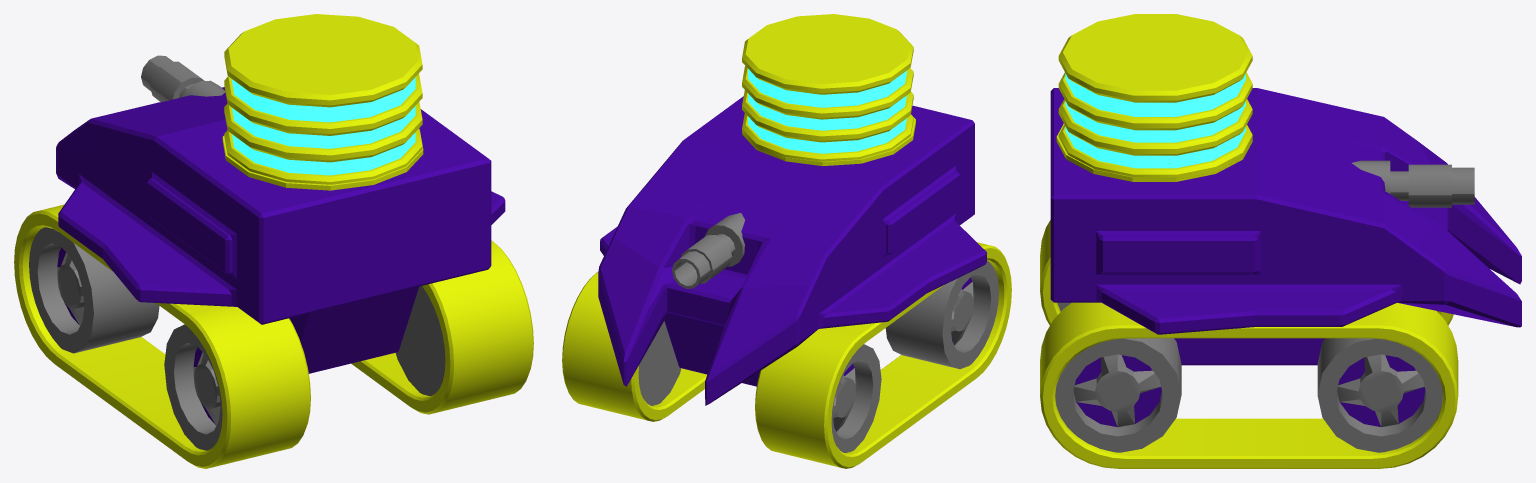
The model's file is tank-04.glb.
3 renders of one model, left to right at view 1: azimuth 30°, elevation 25°; view 2: azimuth 150°, elevation 25°; view 3: azimuth 270°, elevation 25°, orthographic. The views are drawn at different scales.
Parts seen in each view (by area): view 1: Body, Weapon-EMP, Tracks-R, Tracks-L, Wheel-FL, Wheel-BL, Wheel-FR, Weapon-Cannon, Cylinder.002; view 2: Body, Weapon-EMP, Tracks-R, Tracks-L, Wheel-BL, Wheel-FL, Weapon-Cannon, Wheel-BR, Cylinder.001, Cylinder.002; view 3: Body, Weapon-EMP, Tracks-L, Wheel-FR, Wheel-BR, Weapon-Cannon, Tracks-R, Cylinder.002, Cylinder.001.
Part boxes in pixels (<box>): Body: <box>56,87,505,373</box>; Weapon-EMP: <box>224,14,422,184</box>; Tracks-R: <box>14,204,310,468</box>; Tracks-L: <box>351,240,533,414</box>; Wheel-FL: <box>29,227,159,353</box>; Wheel-BL: <box>164,324,222,450</box>; Wheel-FR: <box>395,286,445,395</box>; Weapon-Cannon: <box>141,55,204,101</box>; Cylinder.002: <box>222,130,423,190</box>; Body: <box>598,96,986,405</box>; Weapon-EMP: <box>742,14,913,161</box>; Tracks-R: <box>755,242,1011,468</box>; Tracks-L: <box>562,271,706,421</box>; Wheel-BL: <box>885,261,998,369</box>; Wheel-FL: <box>831,344,881,452</box>; Weapon-Cannon: <box>672,234,735,288</box>; Wheel-BR: <box>638,321,681,405</box>; Cylinder.001: <box>704,213,744,266</box>; Cylinder.002: <box>742,114,915,166</box>; Body: <box>1050,88,1521,365</box>; Weapon-EMP: <box>1058,14,1252,179</box>; Tracks-L: <box>1040,302,1458,468</box>; Wheel-FR: <box>1055,338,1181,452</box>; Wheel-BR: <box>1317,338,1442,452</box>; Weapon-Cannon: <box>1390,164,1474,207</box>; Tracks-R: <box>1040,220,1453,325</box>; Cylinder.002: <box>1056,123,1252,181</box>; Cylinder.001: <box>1352,160,1390,193</box>.
Bounding box in the file's own units: 3.17 × 2.94 × 3.71.
